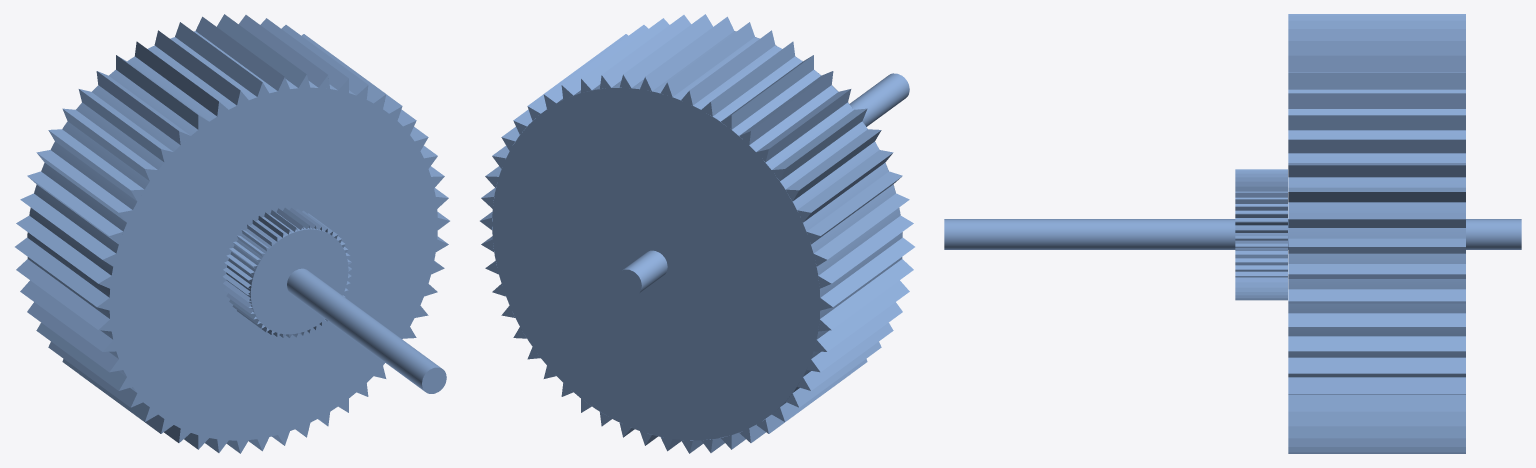
File: DualGear.glb
The picture shows the model from 3 angles, left to right: view 1: azimuth 30°, elevation 25°; view 2: azimuth 150°, elevation 25°; view 3: azimuth 270°, elevation 25°; orthographic projection. The views are drawn at different scales.
Parts seen in each view (by area): view 1: DualGear; view 2: DualGear; view 3: DualGear.
Part boxes in pixels (left/top/right/bottom): DualGear: left=15, top=14, right=449, bottom=453; DualGear: left=480, top=14, right=914, bottom=453; DualGear: left=944, top=14, right=1521, bottom=453.
Size of the model in its own units: 2.79 by 2.79 by 3.67.
